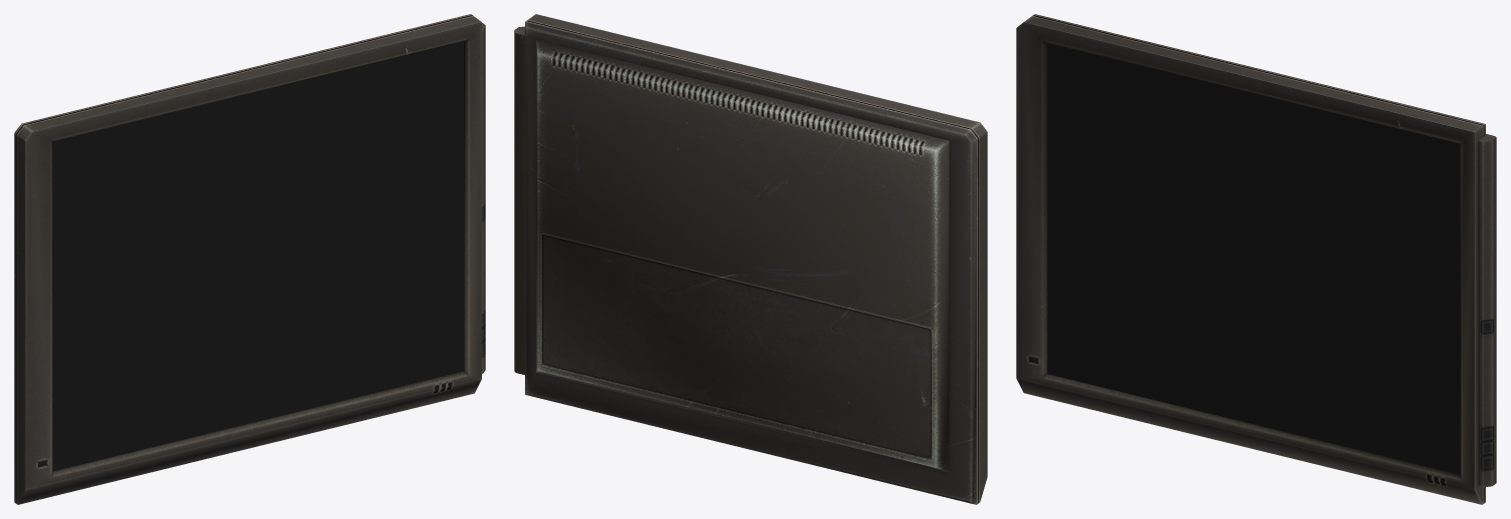
The model's file is computer_panel_large_GUI.dae.
3 views of the same model, side by side, from view 1: azimuth 30°, elevation 25°; view 2: azimuth 150°, elevation 25°; view 3: azimuth 330°, elevation 25° (orthographic).
Visible parts, largest first — view 1: large_screen, computer_panel_large; view 2: computer_panel_large; view 3: large_screen, computer_panel_large.
Boxes of the visible parts, x1=… form: large_screen: x1=52, y1=41, x2=463, y2=471; computer_panel_large: x1=14, y1=14, x2=485, y2=504; computer_panel_large: x1=514, y1=14, x2=987, y2=504; large_screen: x1=1047, y1=43, x2=1460, y2=474; computer_panel_large: x1=1016, y1=14, x2=1496, y2=504.
Bounding box in the file's own units: 1.93 × 1.49 × 0.1336.
